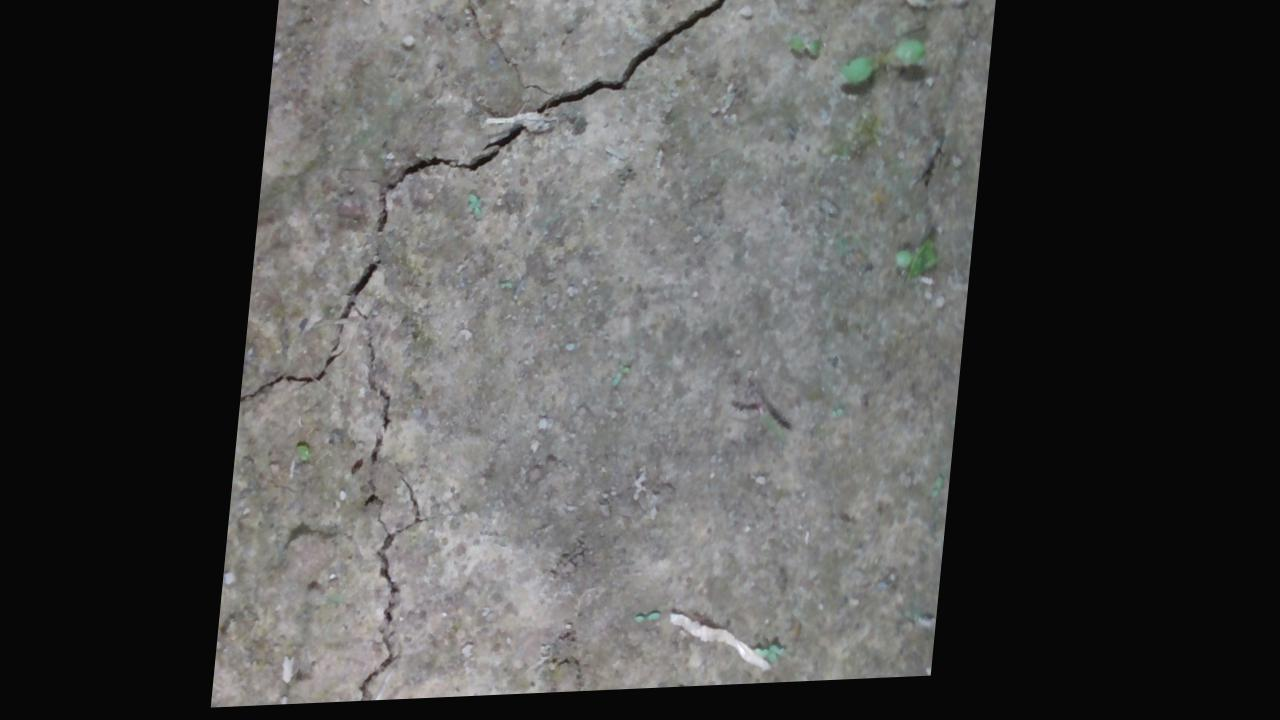weed: (838, 45, 927, 96)
